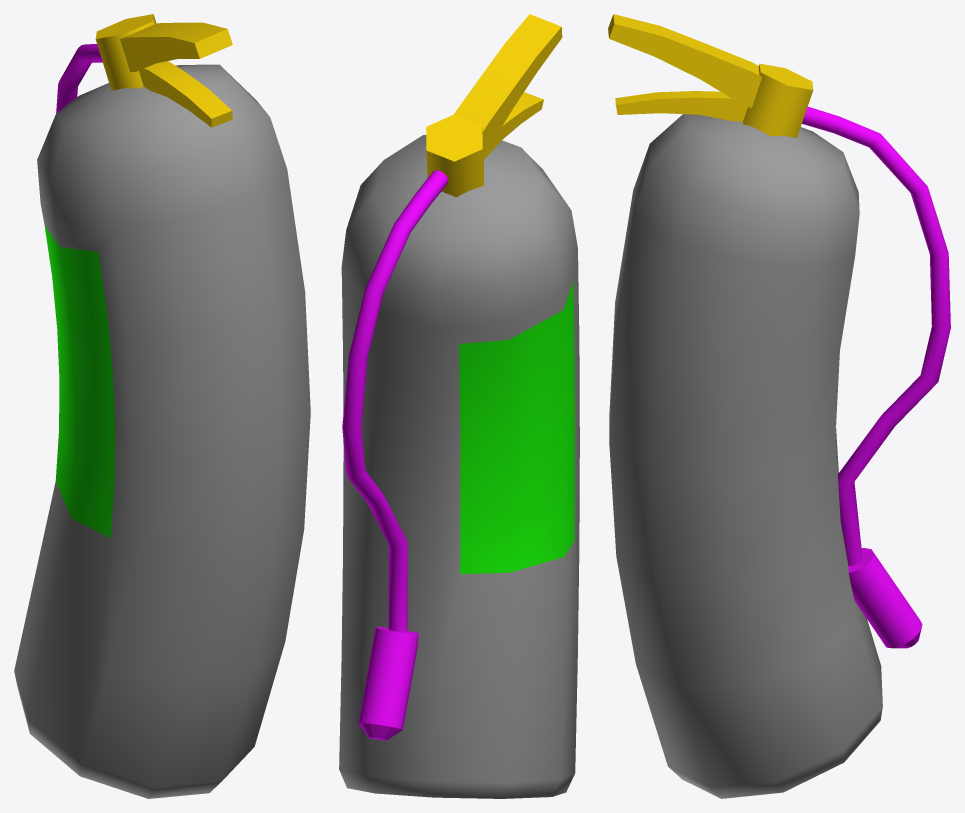
File: Stopfire 1.FBX
The picture shows the model from 3 angles, left to right: view 1: azimuth 30°, elevation 25°; view 2: azimuth 150°, elevation 25°; view 3: azimuth 270°, elevation 25°; orthographic projection. The views are drawn at different scales.
Visible parts, largest first — view 1: Cylinder016; view 2: Cylinder016; view 3: Cylinder016.
Boxes of the visible parts, x1=… form: Cylinder016: x1=14, y1=14, x2=310, y2=798; Cylinder016: x1=339, y1=14, x2=579, y2=798; Cylinder016: x1=608, y1=14, x2=950, y2=798.
Bounding box in the file's own units: 38.69 × 122 × 50.82.
